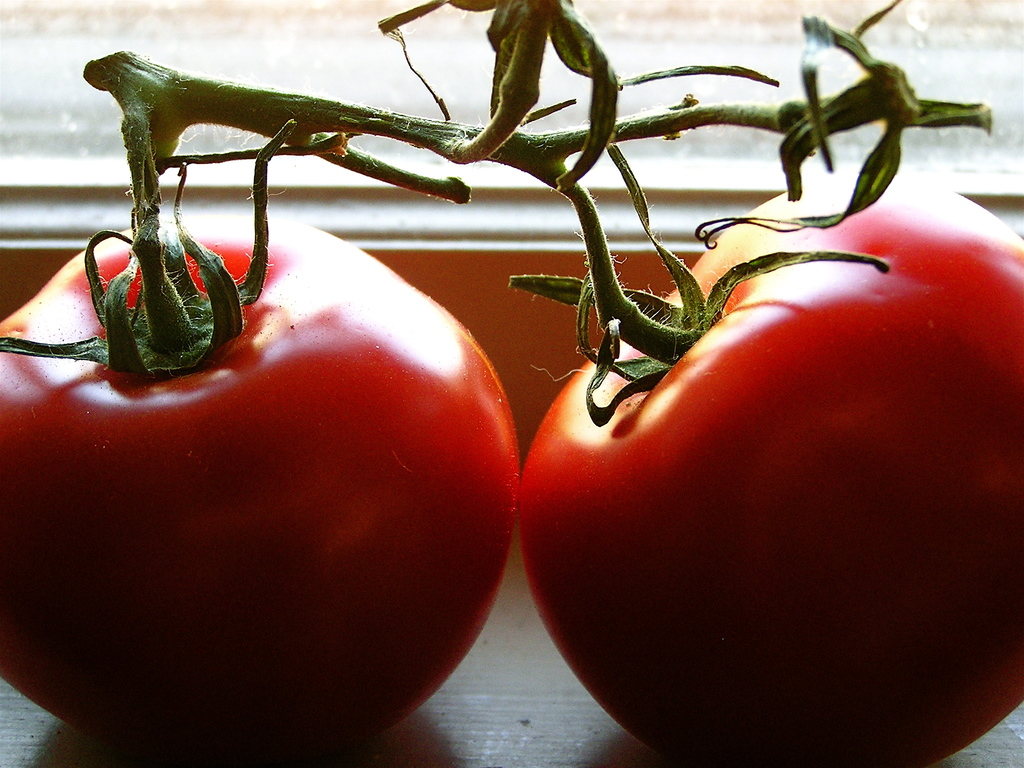Tomato: (516, 165, 1023, 767), (0, 181, 520, 767)
